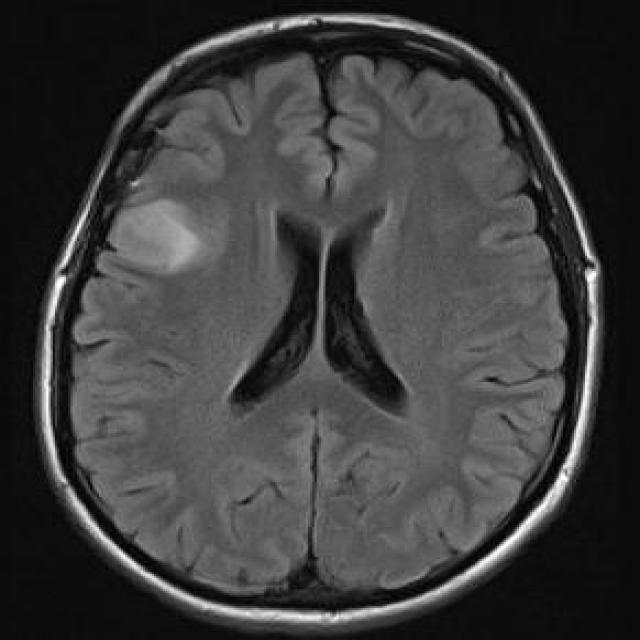Tumor-Cell: (95, 184, 257, 282)
